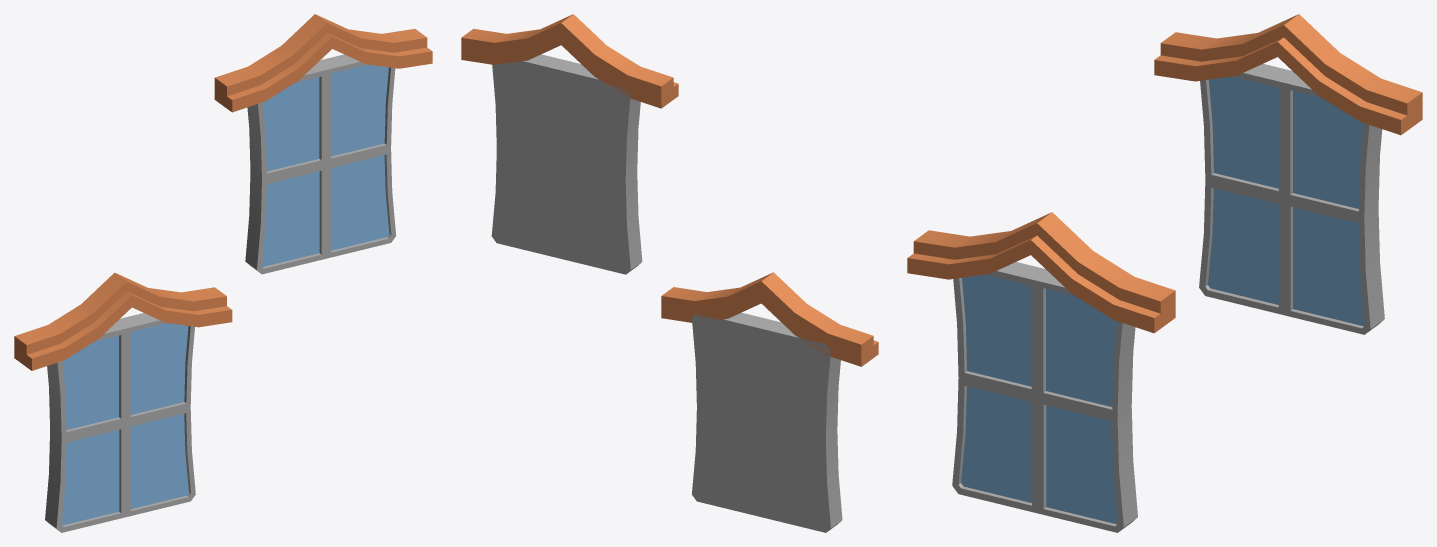
Rendered from Test_modifie.glb.
3 renders of one model, left to right at view 1: azimuth 30°, elevation 25°; view 2: azimuth 150°, elevation 25°; view 3: azimuth 330°, elevation 25°, orthographic. The views are drawn at different scales.
Visible parts, largest first — view 1: Copied_Object, Window; view 2: Copied_Object, Window; view 3: Window, Copied_Object.
Boxes of the visible parts, x1,y1,x2,y2 form: Copied_Object: (214,14,432,274); Window: (14,272,232,532); Copied_Object: (461,14,678,274); Window: (661,272,878,532); Window: (907,212,1175,532); Copied_Object: (1154,14,1422,334).
Bounding box in the file's own units: 4 × 4.25 × 0.3.
